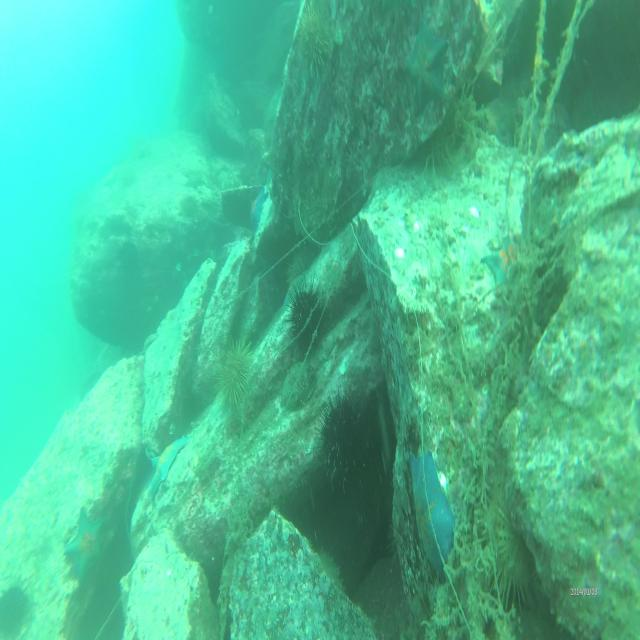echinus: (318, 398, 368, 492), (286, 286, 326, 354), (216, 341, 254, 407), (0, 583, 33, 640)
starfish: (408, 450, 455, 573), (64, 512, 105, 580), (481, 233, 521, 288), (150, 438, 184, 500), (248, 185, 270, 232)
